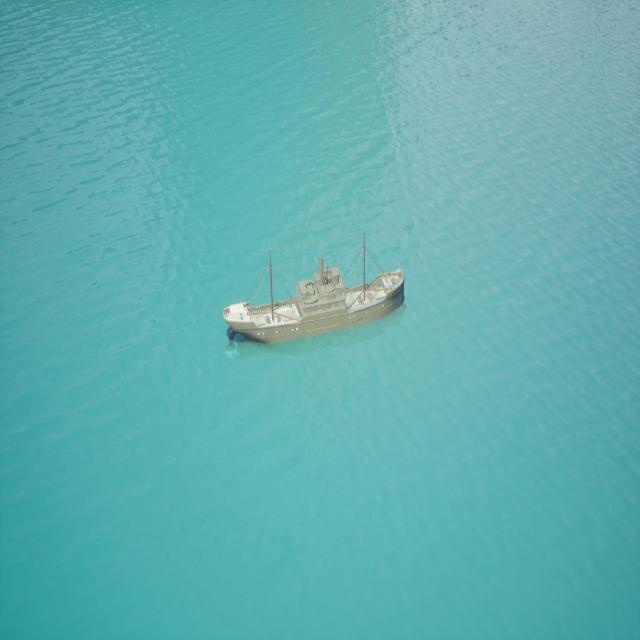fishing ship: (224, 254, 408, 351)
